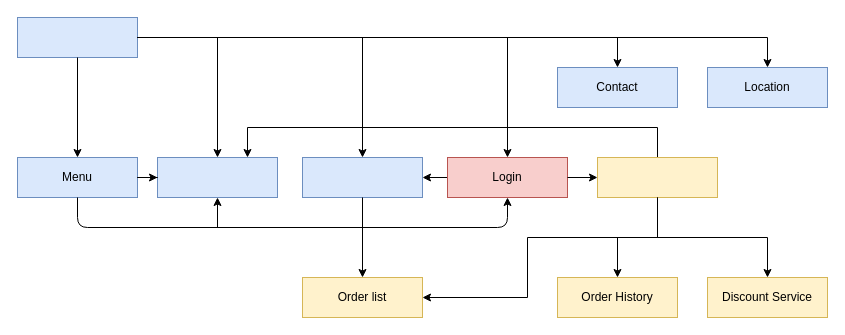
The diagram is 845 pixels wide and 335 high, and some of its shapes have lost their labels. The centre of each missing label's shape, as x and y in pixels:
Home: the point at 77,37
Order online: the point at 362,177
Personal account Page: the point at 657,177
Reservation: the point at 217,177
